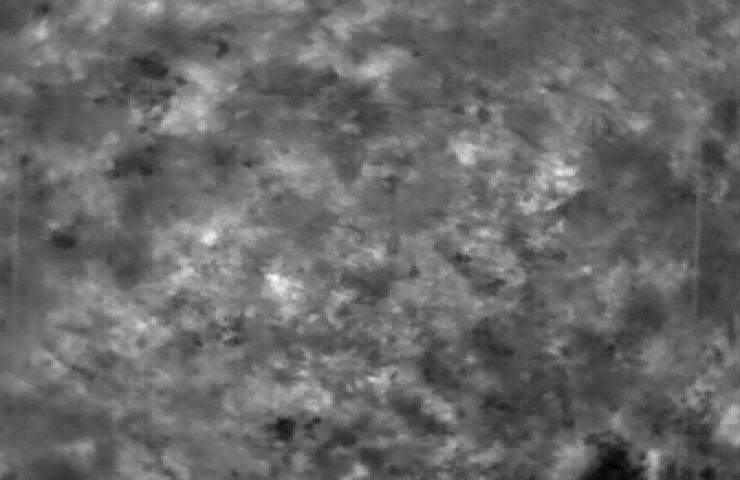landmines: (263, 269, 307, 304)
